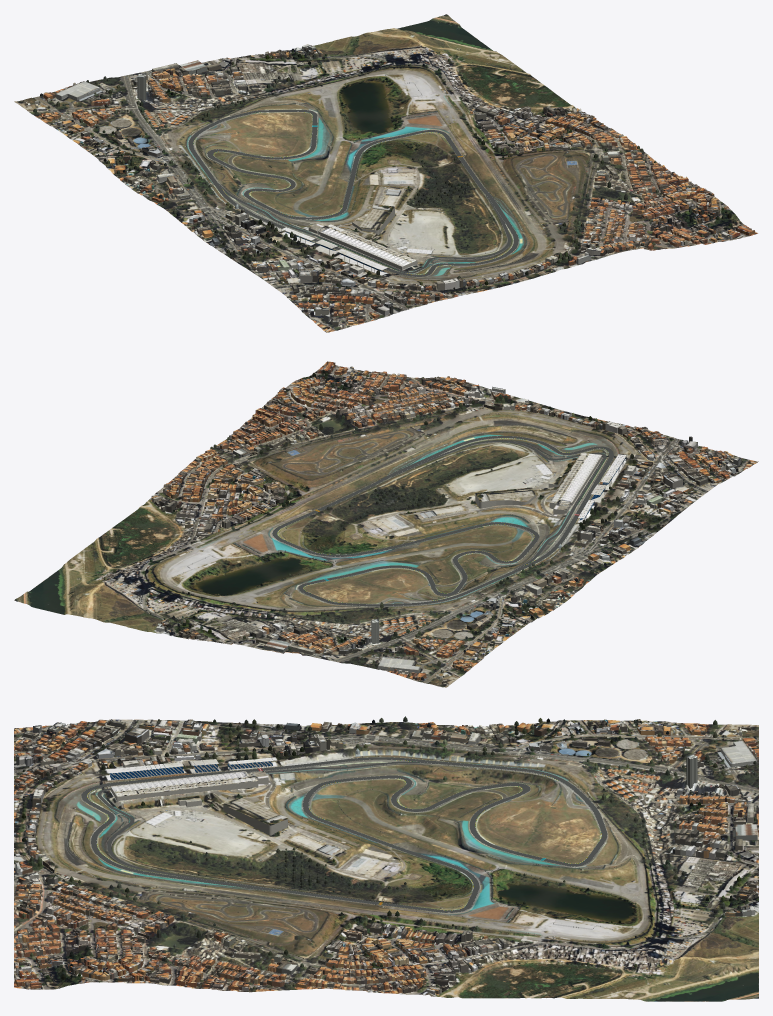
Rendered from interlagos.glb.
3 renders of one model, top to bottom at view 1: azimuth 30°, elevation 25°; view 2: azimuth 150°, elevation 25°; view 3: azimuth 270°, elevation 25°, orthographic. The views are drawn at different scales.
Visible parts, largest first — view 1: Interlagos_Terrain, Interlagos_Source_Roofs, Interlagos_Buildings, Interlagos_Raceway, Interlagos_Vegetation, Interlagos_Catch_Fences, Interlagos_Pit_Lane; view 2: Interlagos_Terrain, Interlagos_Source_Roofs, Interlagos_Buildings, Interlagos_Raceway, Interlagos_Vegetation, Interlagos_Catch_Fences, Interlagos_Pit_Lane, Interlagos_Guardrails; view 3: Interlagos_Terrain, Interlagos_Source_Roofs, Interlagos_Buildings, Interlagos_Raceway, Interlagos_Vegetation, Interlagos_Catch_Fences, Interlagos_Pit_Lane, Interlagos_Guardrails, Interlagos_Textured_Seat_Rows, Interlagos_Main_Grandstand_Roof, Interlagos_Grandstands.
Part boxes in pixels (x1,y1,x2,y2): Interlagos_Terrain: (14,14,757,332); Interlagos_Source_Roofs: (24,44,754,327); Interlagos_Buildings: (24,45,754,328); Interlagos_Raceway: (188,110,518,276); Interlagos_Vegetation: (33,40,739,305); Interlagos_Catch_Fences: (164,64,549,285); Interlagos_Pit_Lane: (213,180,511,273); Interlagos_Terrain: (14,362,758,687); Interlagos_Source_Roofs: (152,361,750,681); Interlagos_Buildings: (151,362,750,683); Interlagos_Raceway: (272,436,613,606); Interlagos_Vegetation: (96,370,714,679); Interlagos_Catch_Fences: (148,413,655,622); Interlagos_Pit_Lane: (384,440,606,573); Interlagos_Guardrails: (152,413,631,622); Interlagos_Terrain: (14,719,758,1001); Interlagos_Source_Roofs: (15,719,757,991); Interlagos_Buildings: (15,719,757,994); Interlagos_Raceway: (81,757,607,912); Interlagos_Vegetation: (21,716,756,989); Interlagos_Catch_Fences: (56,751,654,945); Interlagos_Pit_Lane: (97,761,443,889); Interlagos_Guardrails: (54,739,657,946); Interlagos_Textured_Seat_Rows: (109,761,272,779); Interlagos_Main_Grandstand_Roof: (104,757,277,773); Interlagos_Grandstands: (108,760,275,780).
Size of the model in its own units: 1200 by 113 by 1500.
16 materials, 10 textured.
